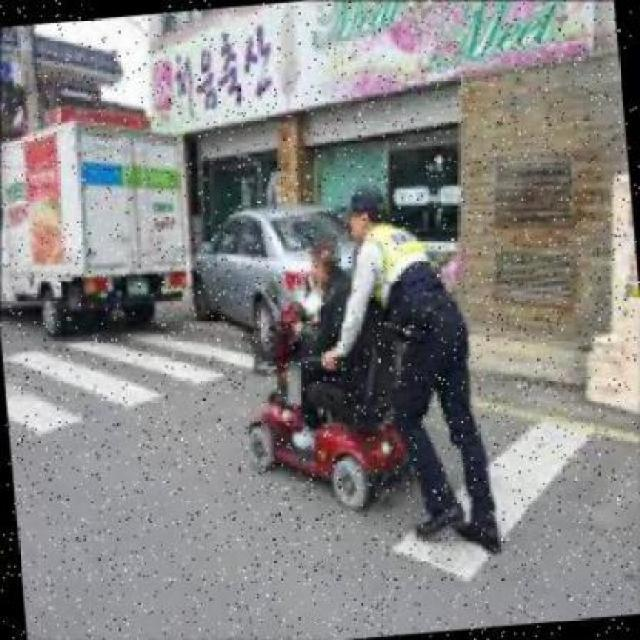sem_oculos: (344, 212, 378, 228), (307, 254, 334, 272)
